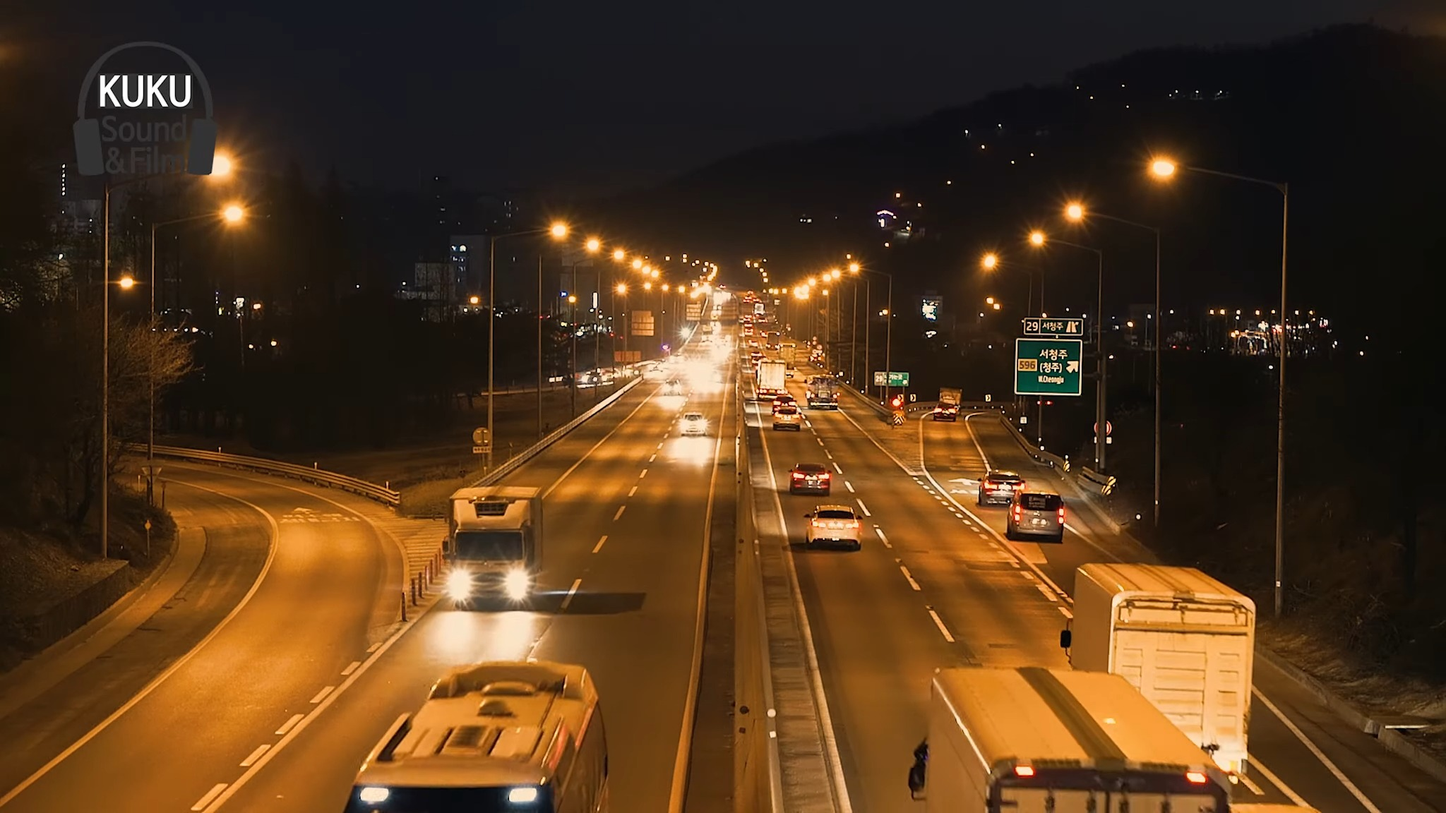car: (1006, 482, 1069, 542), (798, 505, 866, 550)
truck: (1072, 561, 1260, 786), (445, 487, 538, 608)
